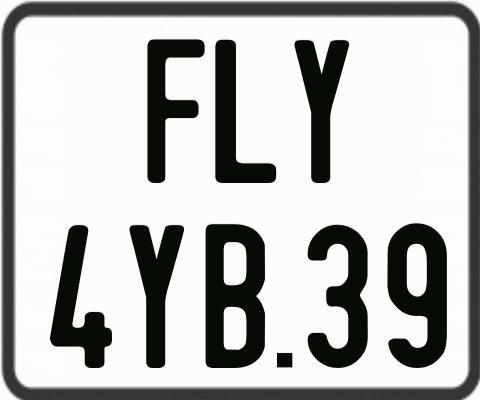3: (308, 222, 368, 371)
4: (48, 224, 115, 369)
9: (385, 220, 446, 365)
B: (206, 221, 270, 369)
F: (146, 36, 209, 181)
L: (214, 37, 275, 186)
Y: (129, 223, 186, 371), (291, 37, 349, 182)
